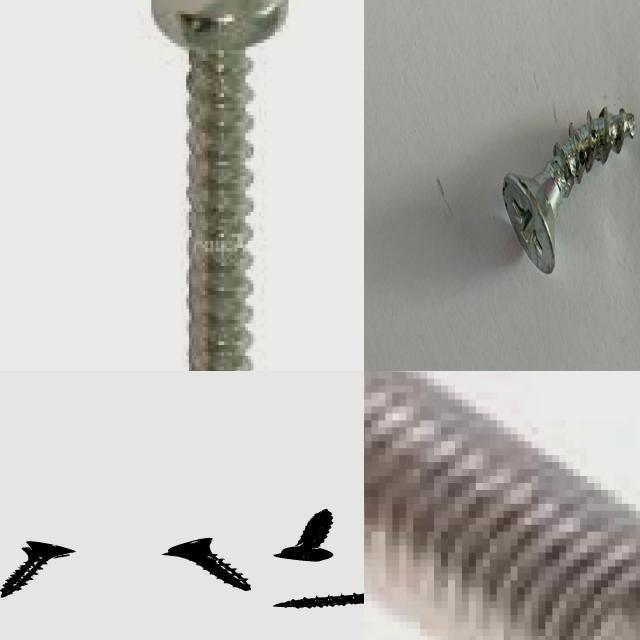Screw: (364, 371, 640, 640), (150, 0, 288, 371), (503, 105, 635, 273), (164, 537, 252, 590), (1, 541, 76, 597), (276, 509, 335, 561), (275, 593, 364, 608)
